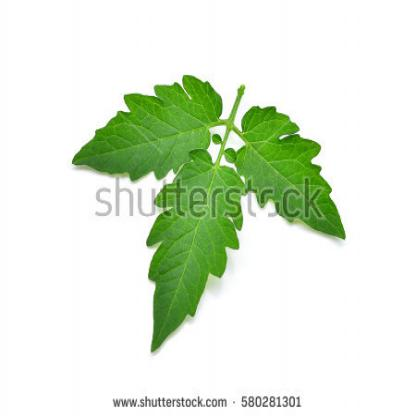tomato leaf: (140, 136, 256, 365), (234, 67, 367, 257), (67, 55, 231, 199)
